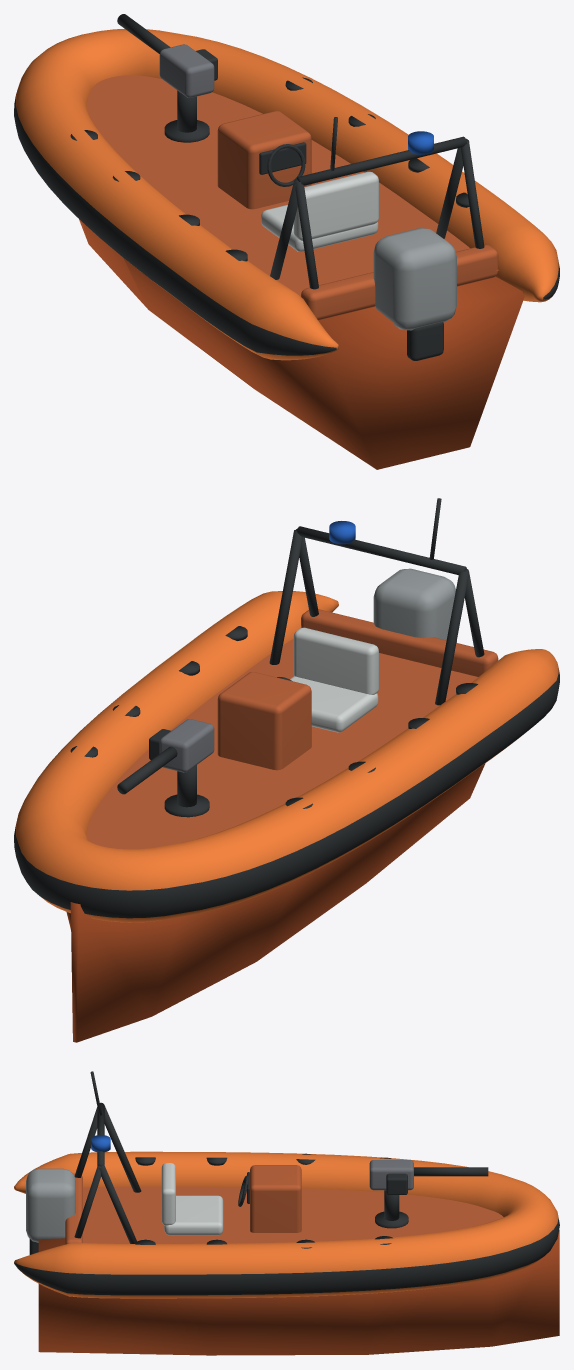
File: rescue-boat.glb
The picture shows the model from 3 angles, top to bottom: view 1: azimuth 30°, elevation 25°; view 2: azimuth 150°, elevation 25°; view 3: azimuth 270°, elevation 25°; orthographic projection. The views are drawn at different scales.
Visible parts, largest first — view 1: Orange inflatable pontoons, Hull, Inset orange deck, Outboard motor, Orange control console, Seat back, Transom, Arcade gun casing, Stern frame crossbar, Seat base, Motor lower housing, Stern frame brace (+8 smaller); view 2: Orange inflatable pontoons, Hull, Inset orange deck, Orange control console, Outboard motor, Seat back, Transom, Seat base, Arcade gun casing, Stern frame crossbar, Stern frame upright, Stern frame upright.001 (+5 smaller); view 3: Orange inflatable pontoons, Hull, Inset orange deck, Orange control console, Outboard motor, Seat base, Arcade gun casing, Seat back, Arcade gun barrel silhouette, Stern frame upright, Transom, Stern frame upright.001 (+5 smaller).
Part boxes in pixels (left/top/right/bottom): Orange inflatable pontoons: left=14, top=29, right=559, bottom=360; Hull: left=79, top=219, right=524, bottom=469; Inset orange deck: left=87, top=75, right=498, bottom=315; Outboard motor: left=373, top=228, right=456, bottom=330; Orange control console: left=217, top=111, right=311, bottom=209; Seat back: left=293, top=171, right=378, bottom=240; Transom: left=301, top=245, right=498, bottom=320; Arcade gun casing: left=159, top=44, right=214, bottom=97; Stern frame crossbar: left=297, top=136, right=466, bottom=185; Seat base: left=261, top=204, right=378, bottom=251; Motor lower housing: left=407, top=322, right=443, bottom=360; Stern frame brace: left=295, top=182, right=318, bottom=289; Orange inflatable pontoons: left=14, top=591, right=559, bottom=922; Hull: left=66, top=763, right=485, bottom=1042; Inset orange deck: left=87, top=639, right=478, bottom=849; Orange control console: left=217, top=672, right=311, bottom=770; Outboard motor: left=373, top=568, right=456, bottom=642; Seat back: left=293, top=627, right=378, bottom=694; Transom: left=301, top=609, right=498, bottom=676; Seat base: left=290, top=676, right=378, bottom=732; Arcade gun casing: left=159, top=719, right=214, bottom=772; Stern frame crossbar: left=297, top=526, right=466, bottom=574; Stern frame upright: left=435, top=571, right=469, bottom=705; Stern frame upright.001: left=269, top=530, right=302, bottom=664; Orange inflatable pontoons: left=14, top=1151, right=559, bottom=1298; Hull: left=38, top=1230, right=559, bottom=1355; Inset orange deck: left=83, top=1186, right=503, bottom=1243; Orange control console: left=250, top=1165, right=301, bottom=1232; Outboard motor: left=26, top=1168, right=75, bottom=1242; Seat base: left=164, top=1195, right=223, bottom=1235; Arcade gun casing: left=369, top=1160, right=413, bottom=1190; Seat back: left=161, top=1163, right=175, bottom=1225; Arcade gun barrel silhouette: left=414, top=1167, right=488, bottom=1176; Stern frame upright: left=104, top=1105, right=141, bottom=1192; Transom: left=65, top=1173, right=82, bottom=1244; Stern frame upright.001: left=99, top=1165, right=136, bottom=1243.
Bounding box in the file's own units: 1.53 × 1.51 × 3.06.
